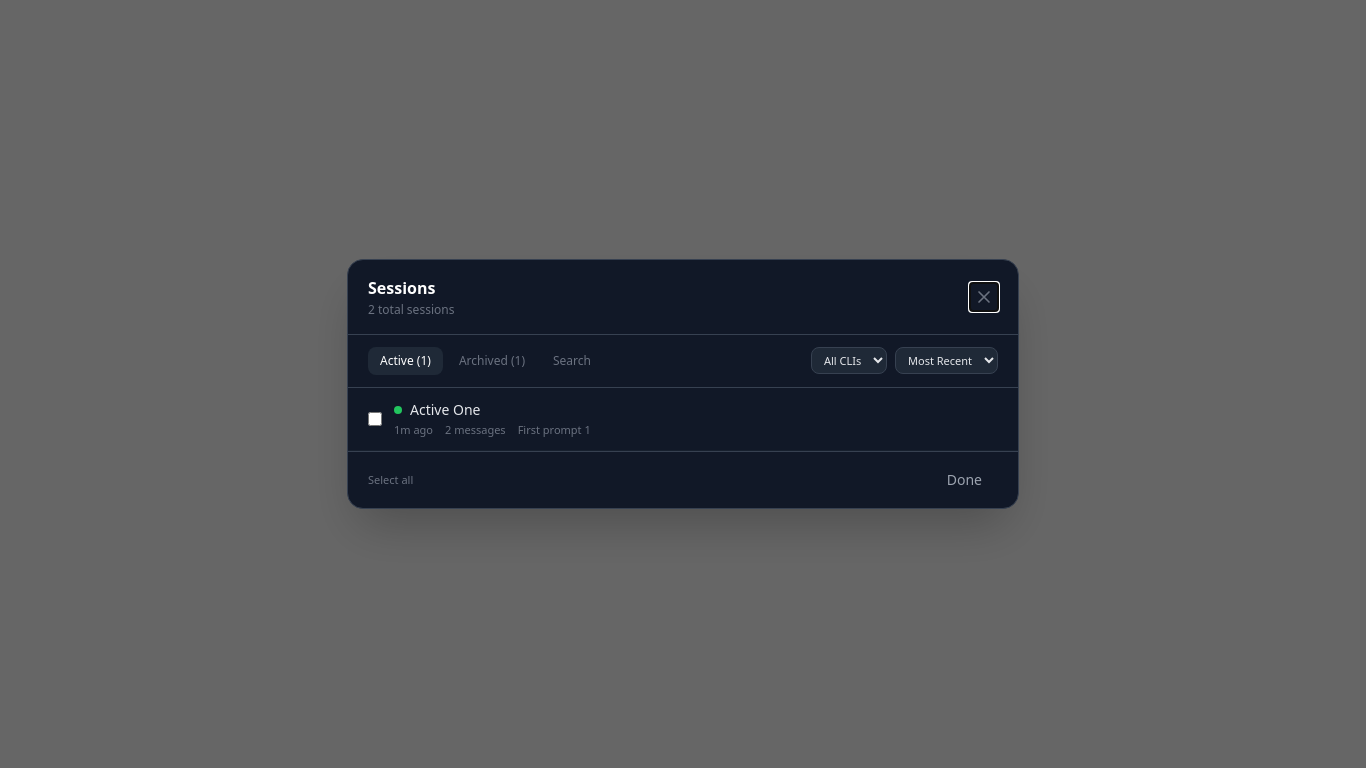
Test case: SessionManager › shows archived sessions in Archived tab
Expected: the text "Active One" is shown, [410,400,480,420]
Click the button "Archived (1)" at [492, 361], box [447,347,537,375]
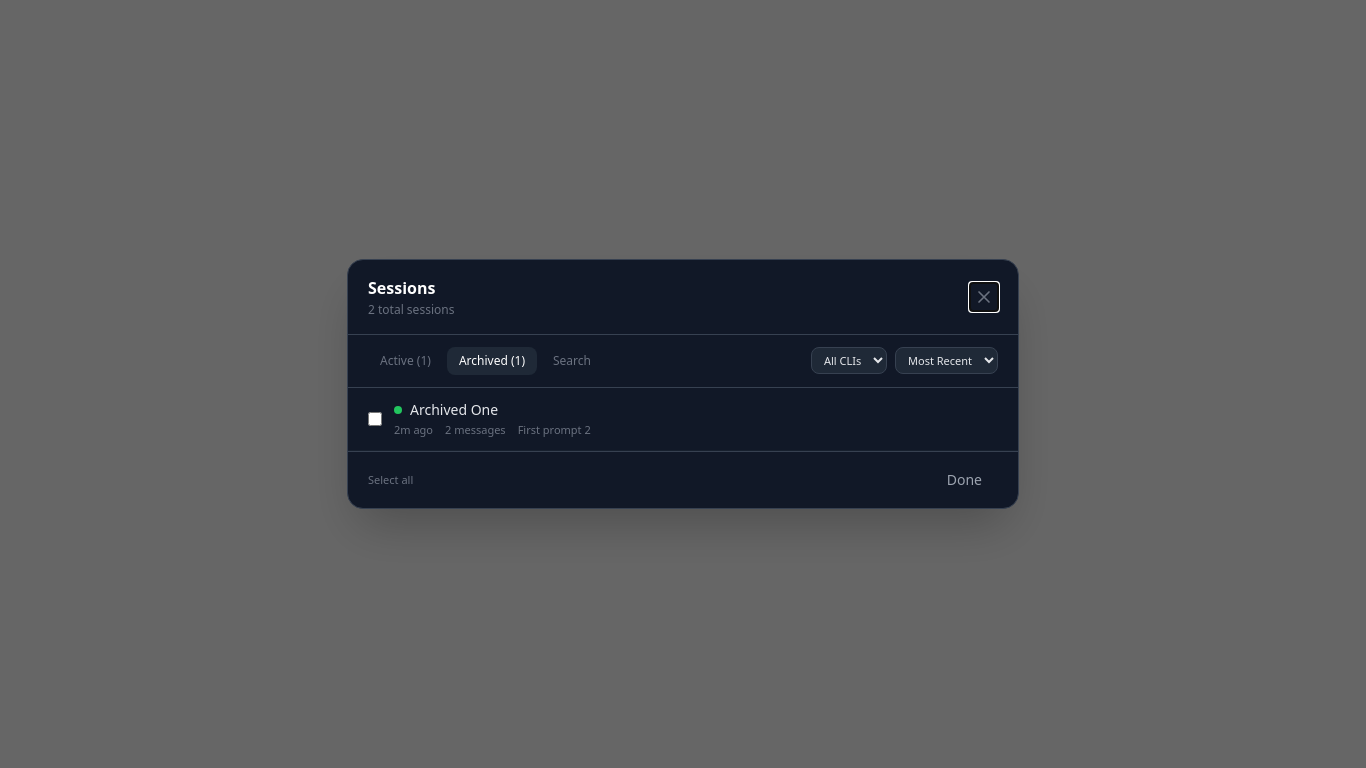
Result: the text "Archived One" is shown at [410,400,498,420]
Result: the button "Active One" is gone
